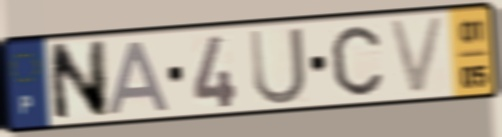4: (190, 30, 241, 111)
A: (105, 37, 175, 117)
C: (328, 23, 385, 98)
N: (45, 38, 111, 125)
U: (247, 24, 310, 108)
V: (385, 13, 449, 99)
